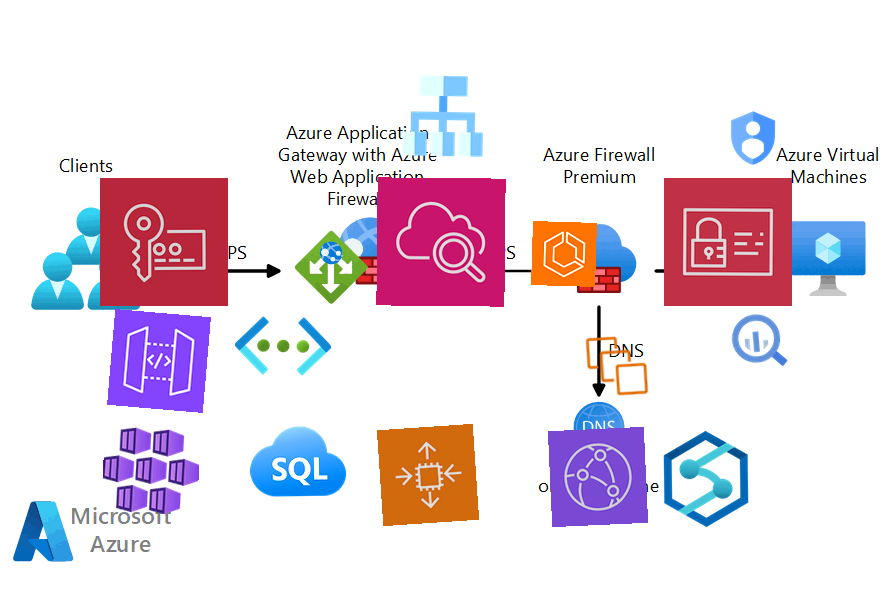aws_amazon_api_gateway: (107, 309, 211, 413)
aws_amazon_cloudfront: (547, 426, 649, 528)
aws_amazon_cloudwatch: (376, 177, 506, 307)
aws_amazon_ec2_auto_scaling: (376, 423, 480, 527)
aws_amazon_elastic_container_service: (531, 221, 597, 287)
aws_ec2_instances: (583, 332, 651, 400)
aws_identity_and_access_management: (663, 177, 793, 307)
aws_key_management_service: (99, 177, 229, 307)
azure_kubernetes_services: (100, 419, 202, 521)
azure_sql: (249, 414, 347, 512)
azure_synapse_analytics: (657, 430, 755, 528)
azure_virtual_networks: (233, 296, 333, 396)
gcp_bigquery: (724, 306, 794, 376)
gcp_cloud_load_balancing: (394, 67, 492, 165)
gcp_identity_and_access_management: (720, 105, 786, 171)
